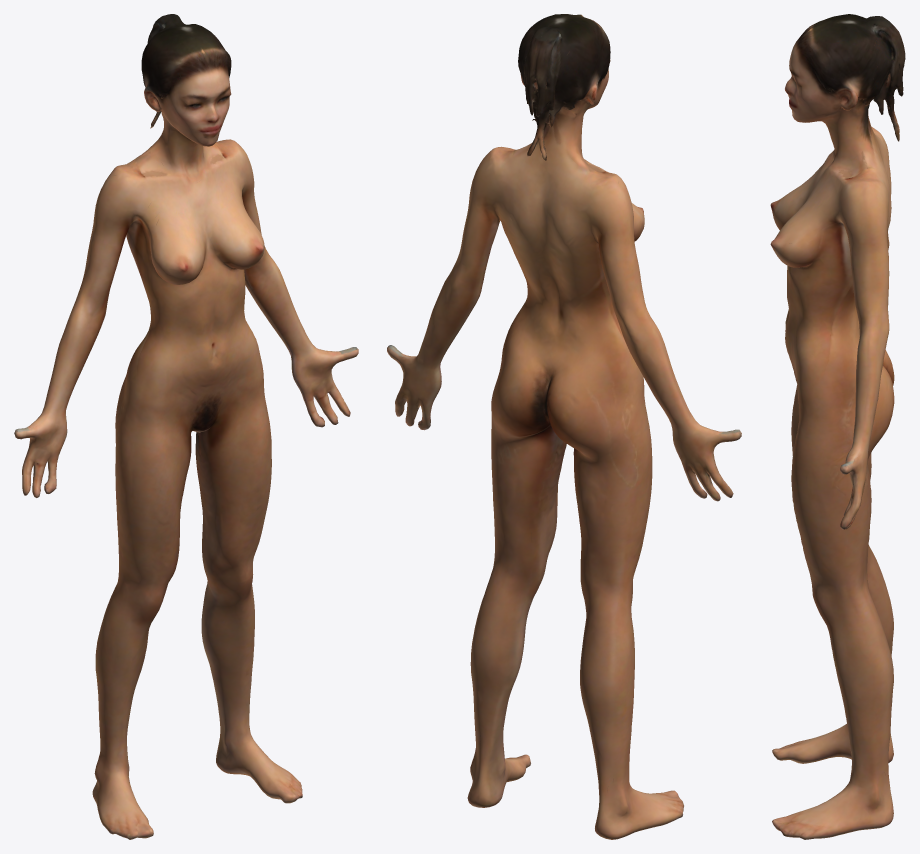
Rendered from dog6.glb.
The picture shows the model from 3 angles, left to right: view 1: azimuth 30°, elevation 25°; view 2: azimuth 150°, elevation 25°; view 3: azimuth 270°, elevation 25°; orthographic projection. The views are drawn at different scales.
Size of the model in its own units: 0.9307 by 2 by 0.314.
1 material, 1 textured.
